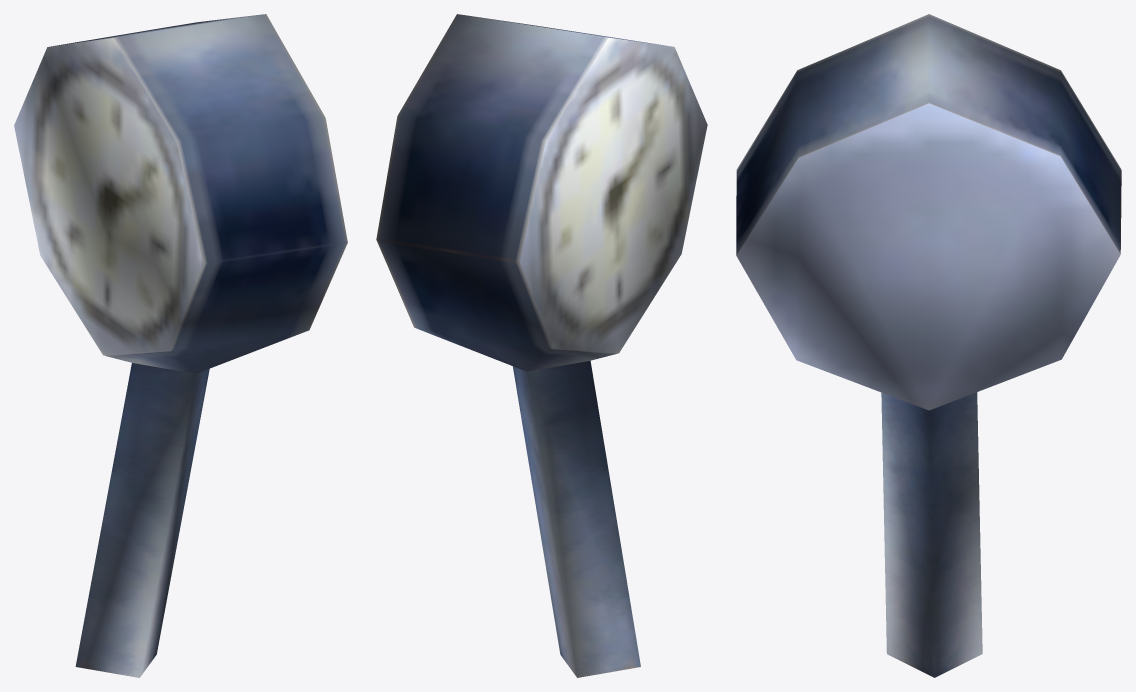
The model's file is gnomegauge01.obj.
The picture shows the model from 3 angles, left to right: view 1: azimuth 30°, elevation 25°; view 2: azimuth 150°, elevation 25°; view 3: azimuth 270°, elevation 25°; orthographic projection. The views are drawn at different scales.
Visible parts, largest first — view 1: gnomegauge01; view 2: gnomegauge01; view 3: gnomegauge01.
Boxes of the visible parts, x1,y1,x2,y2 form: gnomegauge01: (14, 14, 347, 677); gnomegauge01: (376, 14, 707, 677); gnomegauge01: (736, 14, 1121, 677).
Bounding box in the file's own units: 0.1804 × 0.5777 × 0.3146.
1 material, 1 textured.
